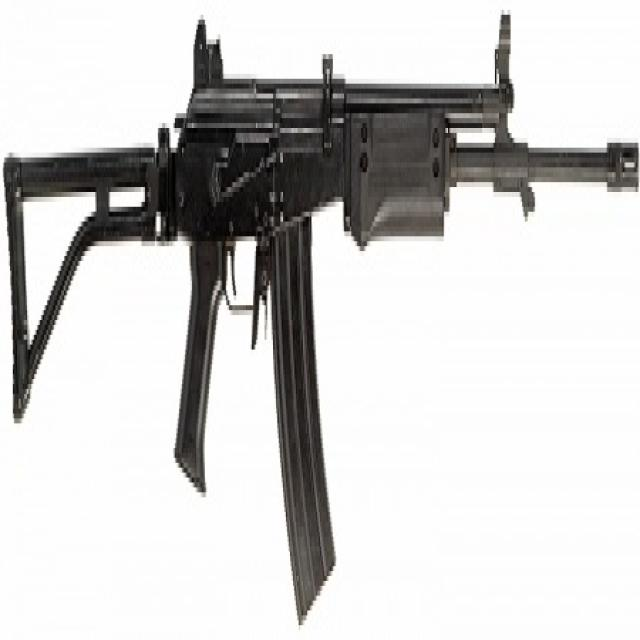rifle: (2, 4, 640, 640)
